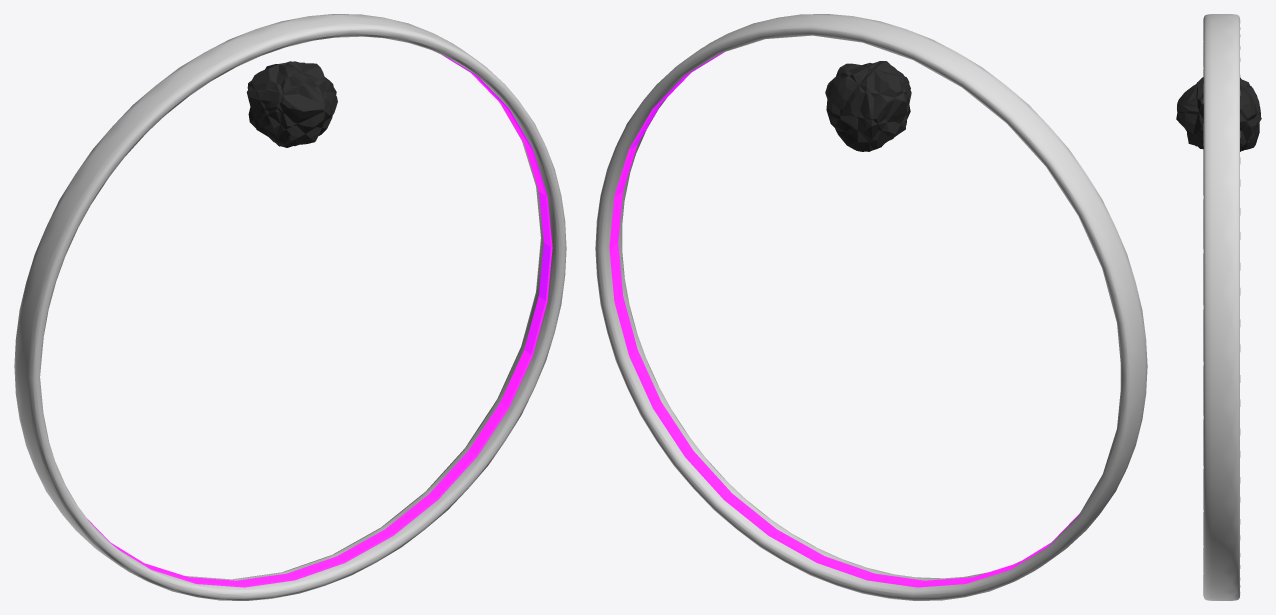
Rendered from ring.fbx.
3 views of the same model, side by side, from view 1: azimuth 30°, elevation 25°; view 2: azimuth 150°, elevation 25°; view 3: azimuth 270°, elevation 25° (orthographic). The views are drawn at different scales.
Parts seen in each view (by area): view 1: outer, inner, The_Object; view 2: outer, inner, The_Object; view 3: outer, The_Object.
Boxes of the visible parts, left/top/right/bottom form: outer: left=14, top=14, right=566, bottom=600; inner: left=88, top=55, right=552, bottom=587; The_Object: left=246, top=61, right=337, bottom=147; outer: left=595, top=14, right=1147, bottom=600; inner: left=609, top=52, right=1079, bottom=587; The_Object: left=825, top=61, right=911, bottom=151; outer: left=1203, top=14, right=1240, bottom=600; The_Object: left=1176, top=77, right=1261, bottom=151.
Bounding box in the file's own units: 790 × 790 × 115.
